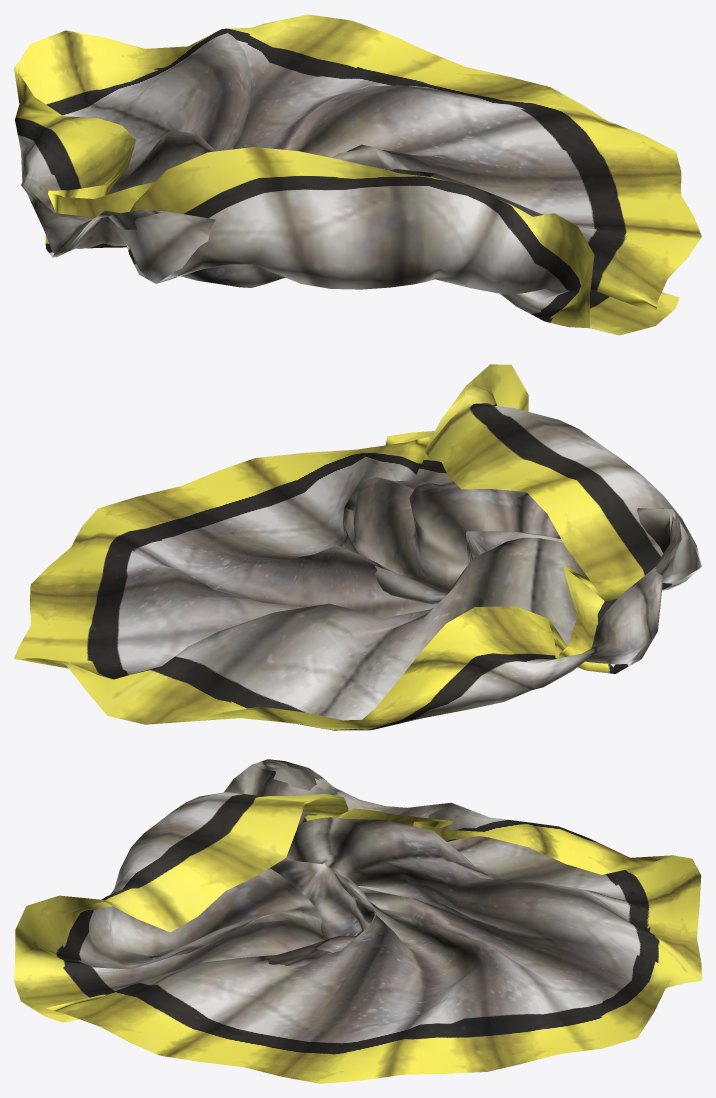
The model's file is parachute.dae.
3 renders of one model, top to bottom at view 1: azimuth 30°, elevation 25°; view 2: azimuth 150°, elevation 25°; view 3: azimuth 270°, elevation 25°, orthographic. The views are drawn at different scales.
Parts seen in each view (by area): view 1: Sphere001; view 2: Sphere001; view 3: Sphere001.
Boxes of the visible parts, x1=… form: Sphere001: x1=14, y1=14, x2=701, y2=335; Sphere001: x1=14, y1=364, x2=701, y2=730; Sphere001: x1=14, y1=759, x2=701, y2=1083.
Bounding box in the file's own units: 12.12 × 14.22 × 2.29.
Materials: 1 (1 with a texture image).
